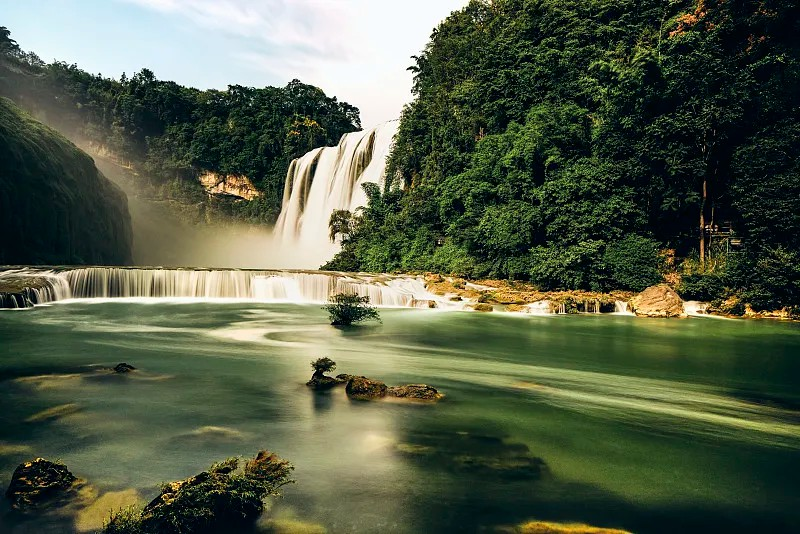Huangguoshu: (276, 120, 398, 272)
